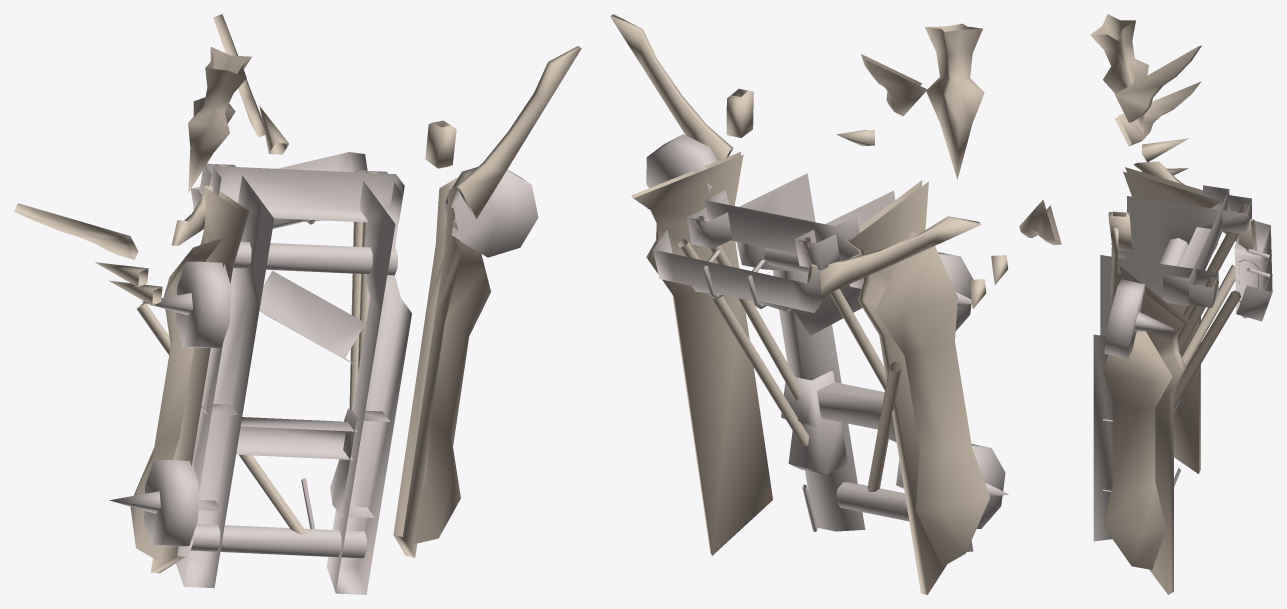
3 renders of one model, left to right at view 1: azimuth 30°, elevation 25°; view 2: azimuth 150°, elevation 25°; view 3: azimuth 270°, elevation 25°, orthographic. The views are drawn at different scales.
Visible parts, largest first — view 1: Object46; view 2: Object46; view 3: Object46.
Part boxes in pixels (box(x1,y1,x2,y2)): Object46: box(14, 14, 581, 594); Object46: box(610, 14, 1061, 594); Object46: box(1090, 14, 1272, 594).
Bounding box in the file's own units: 72431 × 77816 × 26655.
